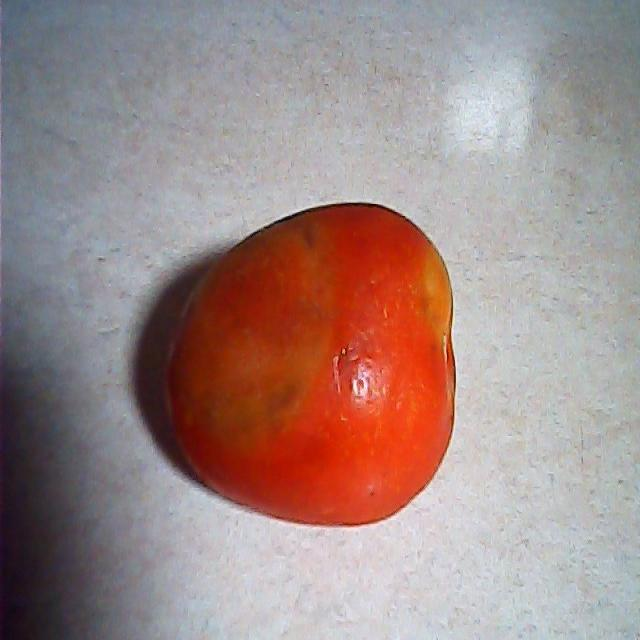maduro: (167, 204, 460, 522)
